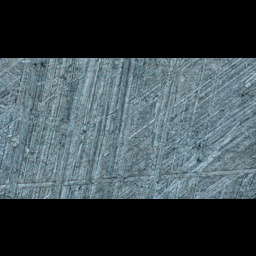d: (0, 94, 255, 168), (126, 57, 185, 198), (0, 164, 255, 194)
